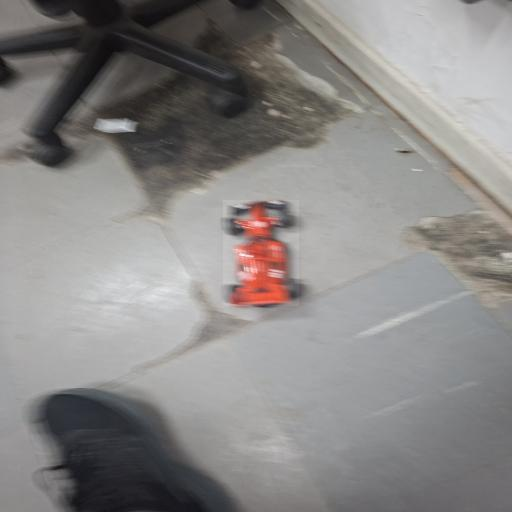carro: (223, 201, 298, 305)
